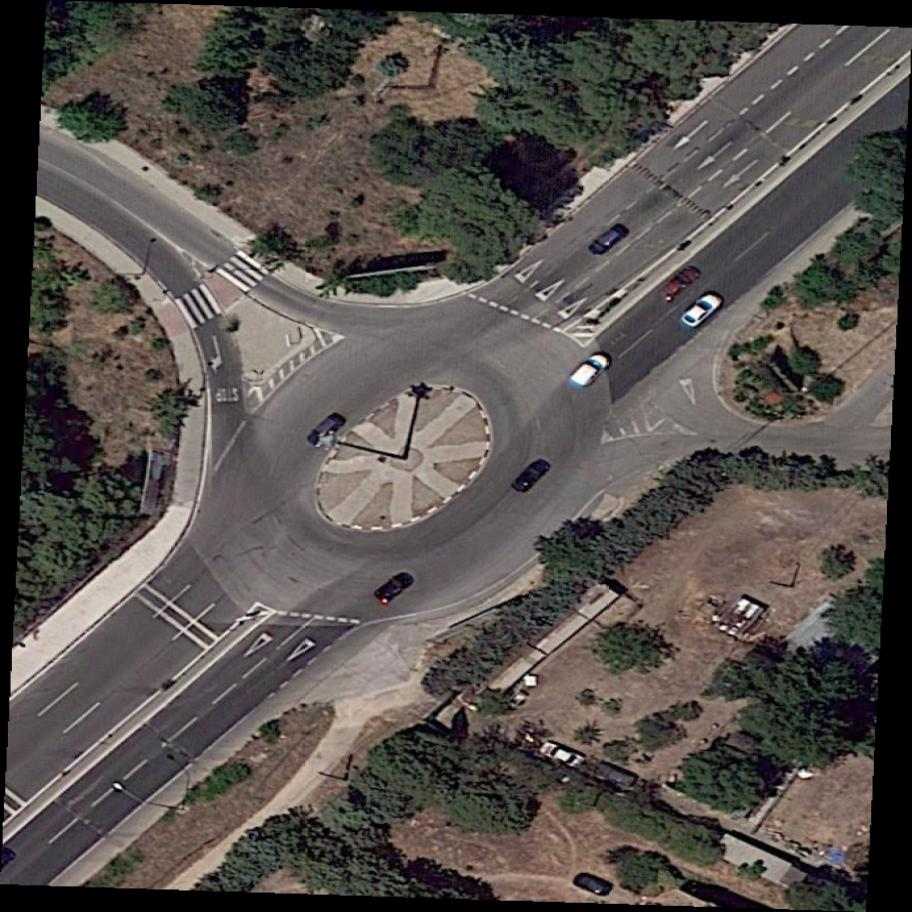small-vehicle: (655, 262, 703, 308), (679, 289, 727, 334), (570, 347, 615, 394), (509, 452, 553, 499), (591, 756, 642, 793), (308, 410, 350, 453), (540, 735, 586, 771), (374, 570, 415, 607), (571, 868, 613, 900), (588, 223, 625, 259)
